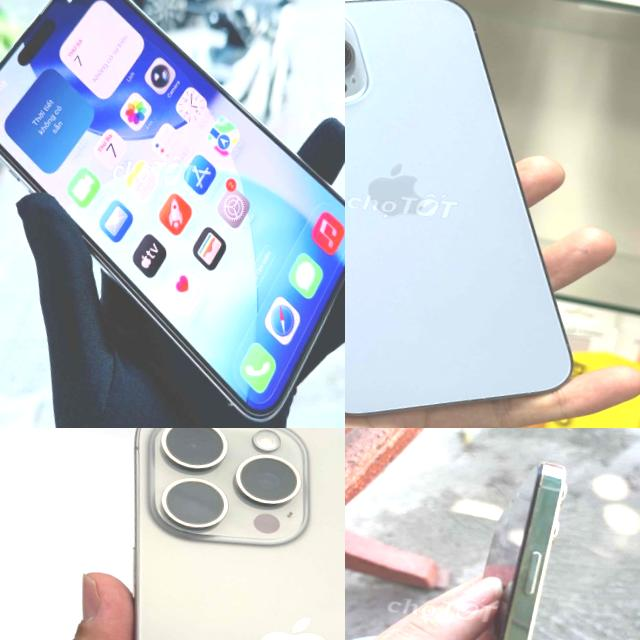gen_12_13: (345, 0, 612, 428), (423, 453, 572, 640)
gen_15: (0, 0, 345, 428), (68, 428, 345, 640)
